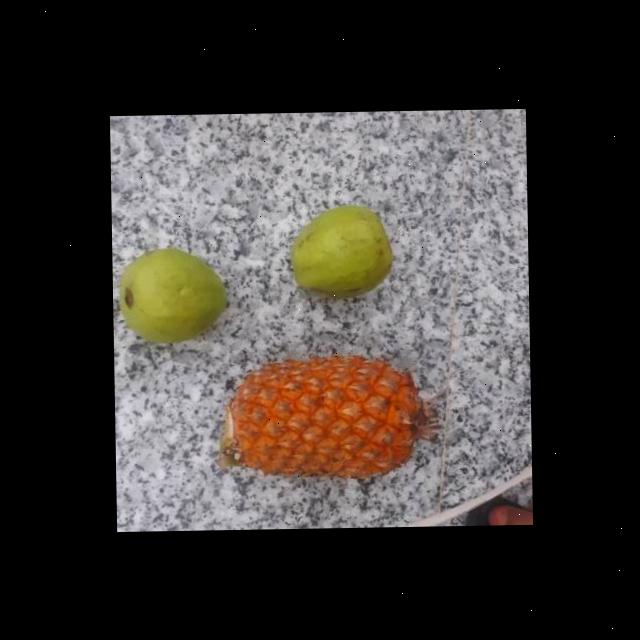guava: (116, 246, 231, 346), (290, 202, 390, 304)
pineapple: (211, 356, 428, 479)
